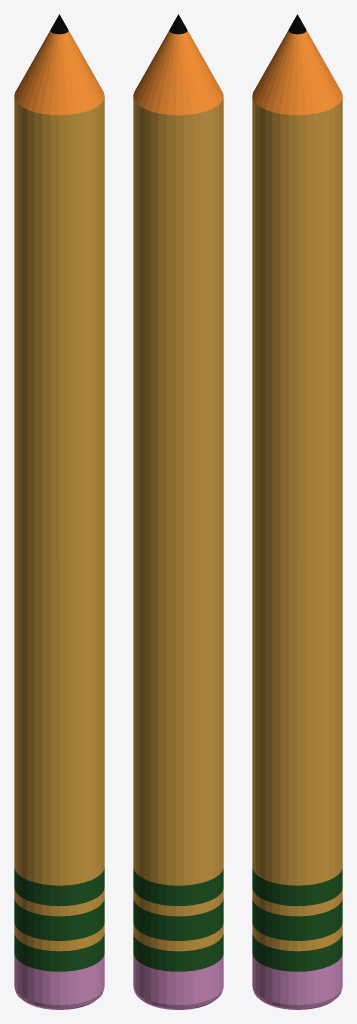
Rendered from Pencil.fbx.
3 renders of one model, left to right at view 1: azimuth 90°, elevation 25°; view 2: azimuth 210°, elevation 25°; view 3: azimuth 270°, elevation 25°, orthographic.
Parts seen in each view (by area): view 1: Pencil; view 2: Pencil; view 3: Pencil.
Part boxes in pixels (box(x1,y1,x2,y2)): Pencil: box(14, 14, 104, 1009); Pencil: box(133, 14, 223, 1009); Pencil: box(252, 14, 342, 1009).
Size of the model in its own units: 200 by 2388 by 200.
